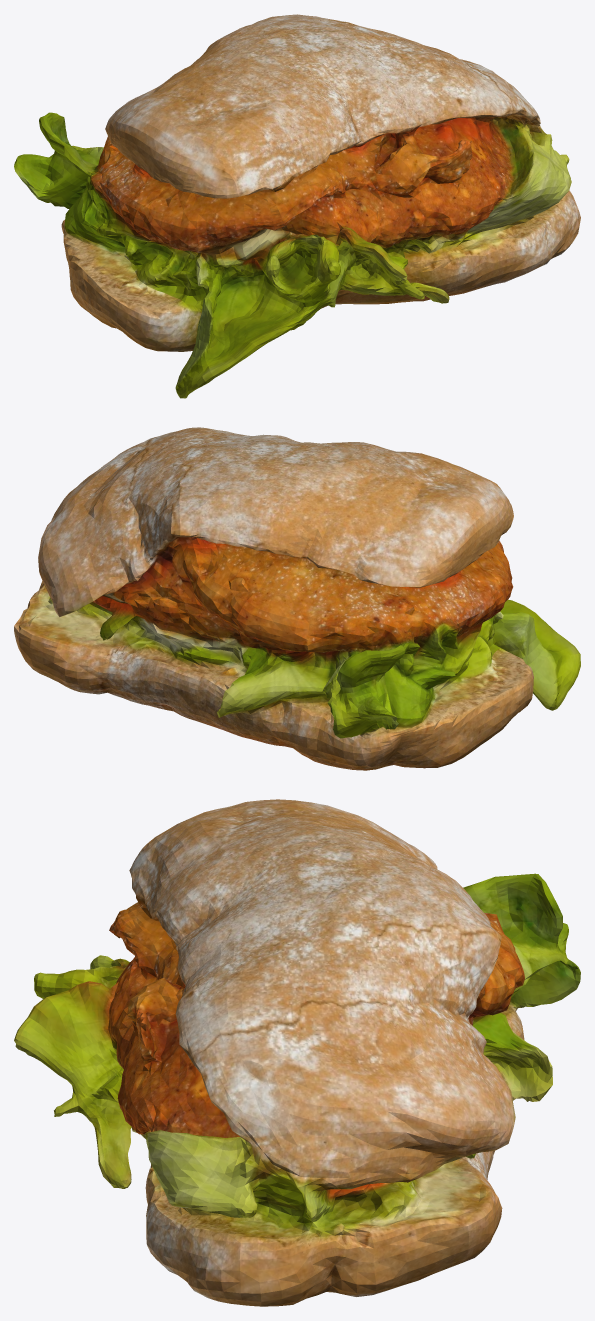
The model's file is Low-Brave_Burger-ZR.OBJ.
3 renders of one model, top to bottom at view 1: azimuth 30°, elevation 25°; view 2: azimuth 150°, elevation 25°; view 3: azimuth 270°, elevation 25°, orthographic. The views are drawn at different scales.
Visible parts, largest first — view 1: Group55979; view 2: Group55979; view 3: Group55979.
Boxes of the visible parts, left/top/right/bottom form: Group55979: left=14, top=14, right=580, bottom=398; Group55979: left=14, top=427, right=580, bottom=770; Group55979: left=14, top=799, right=580, bottom=1306.
Bounding box in the file's own units: 0.2248 × 0.12 × 0.1856.
Materials: 1 (1 with a texture image).
